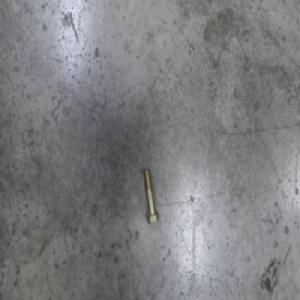Bolt: (142, 169, 160, 226)
